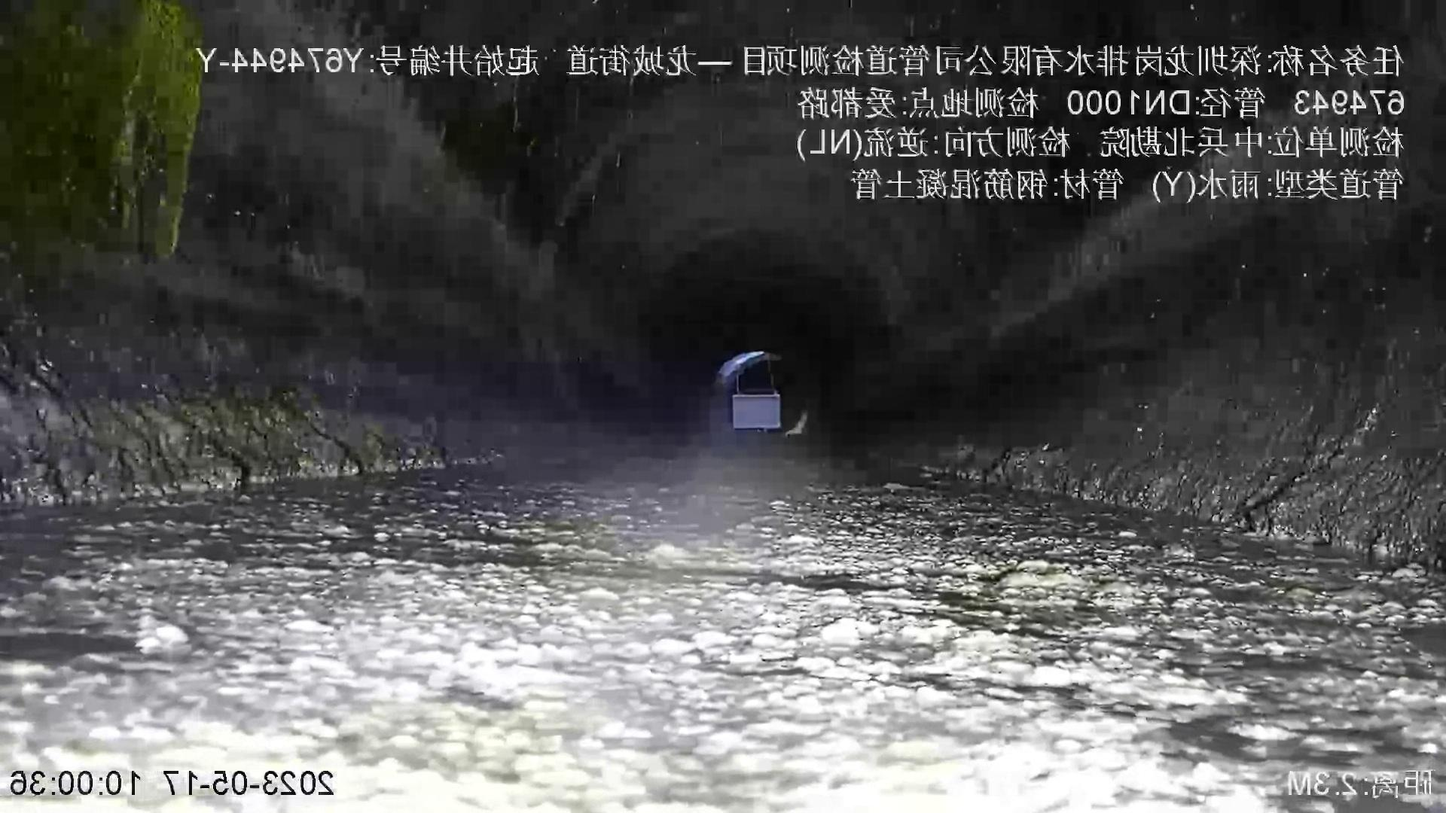FZ: (1, 461, 1446, 812)
PL: (765, 681, 776, 692)
